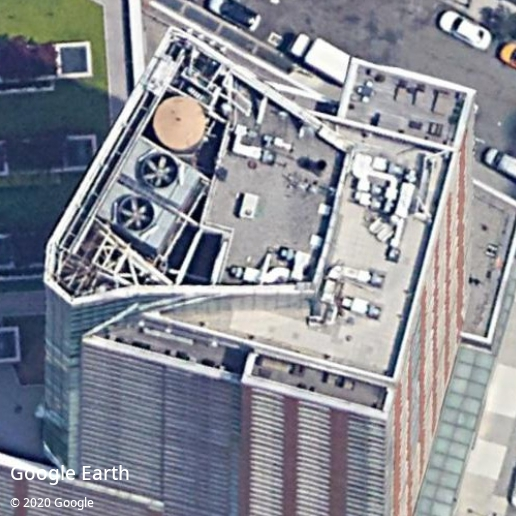Vent: (141, 154, 179, 189), (118, 196, 154, 232)
